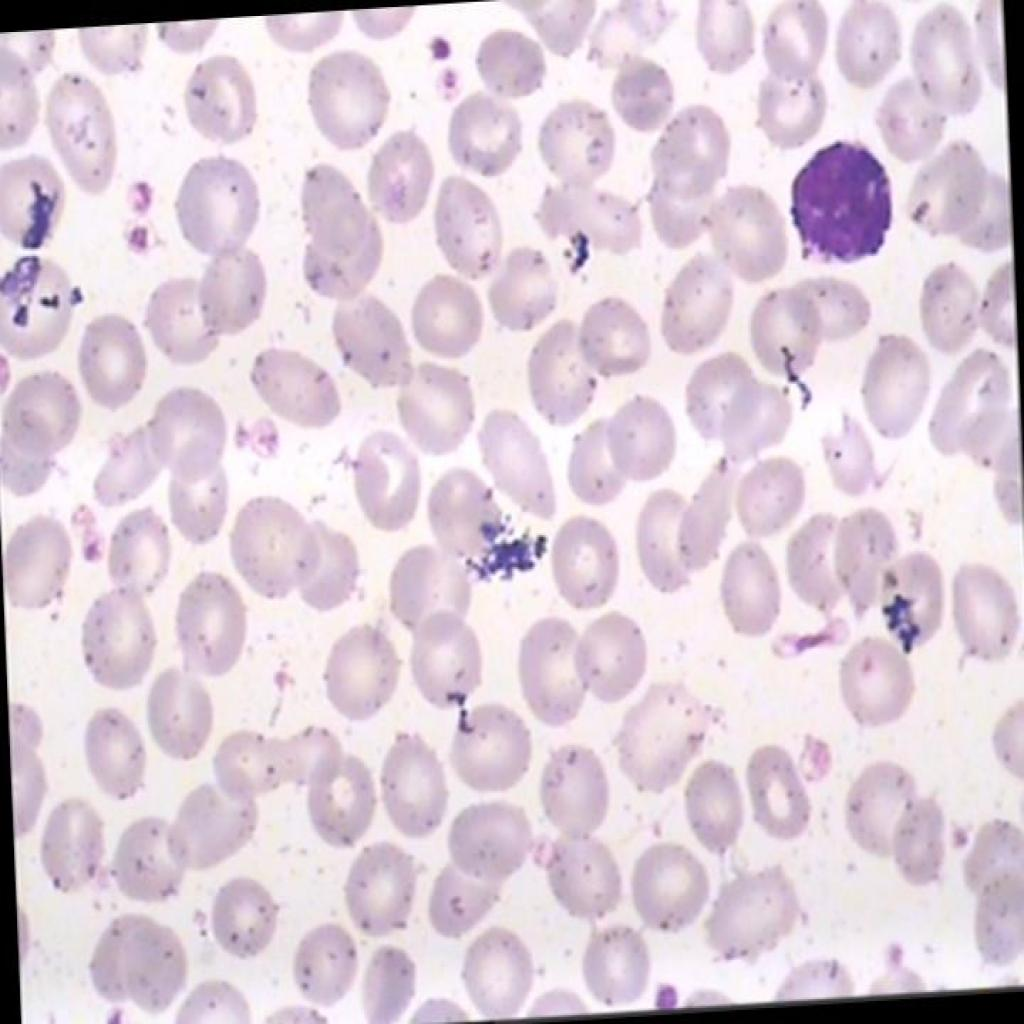Basofil: (778, 121, 907, 281)
Platelet: (118, 167, 164, 222), (646, 969, 682, 1015), (423, 25, 455, 76), (122, 215, 160, 253)
